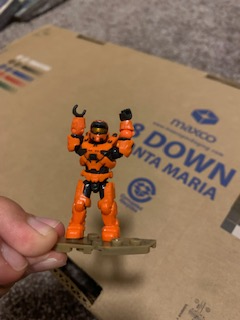spartan: (64, 102, 136, 242)
up: (66, 101, 136, 175)
